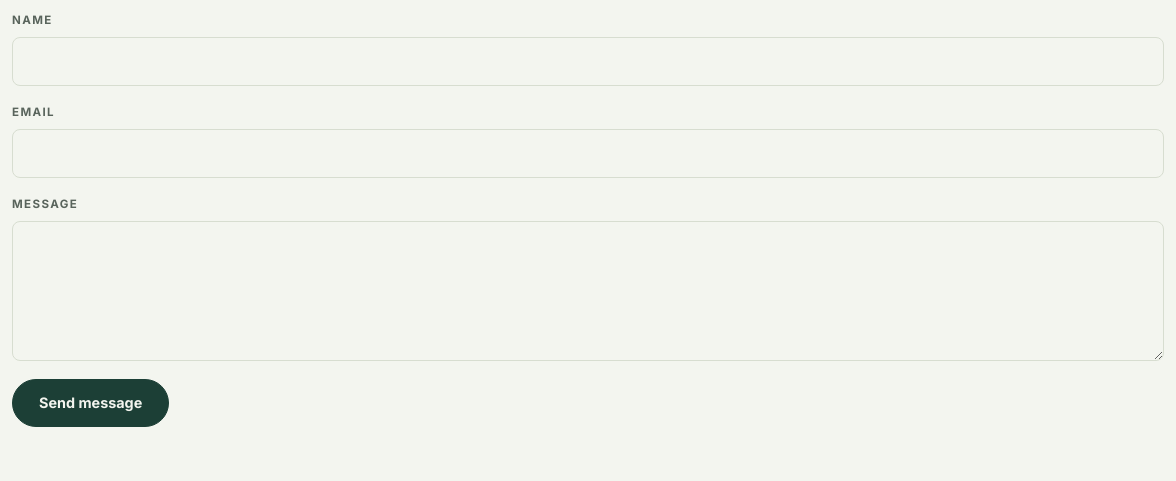
Test: ContactForm › shows a fallback message when no access key is configured
Type "Trail Friend" into the field labelled "Name" at x=588, y=62, box [12,37,1164,86]
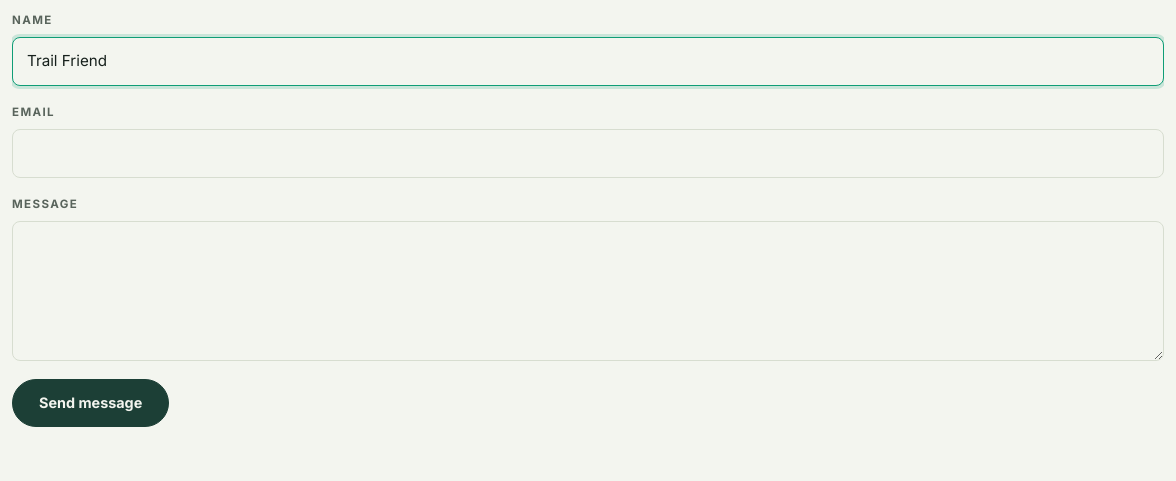
Type "friend@example.com" into the field labelled "Email" at x=588, y=154, box [12,129,1164,178]
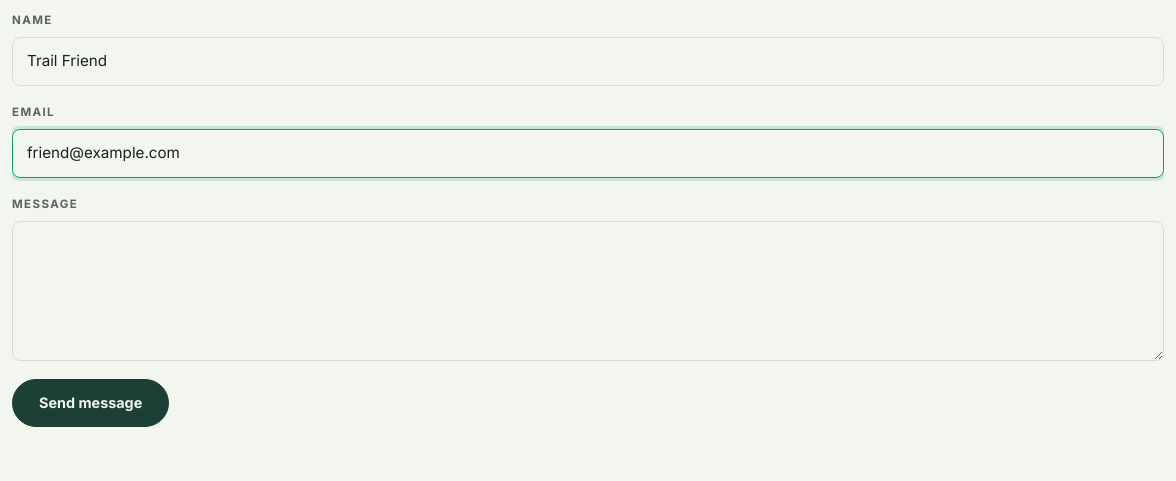
Type "Hello from the ridge!" into the text box labelled "Message" at x=588, y=291, box [12,221,1164,361]
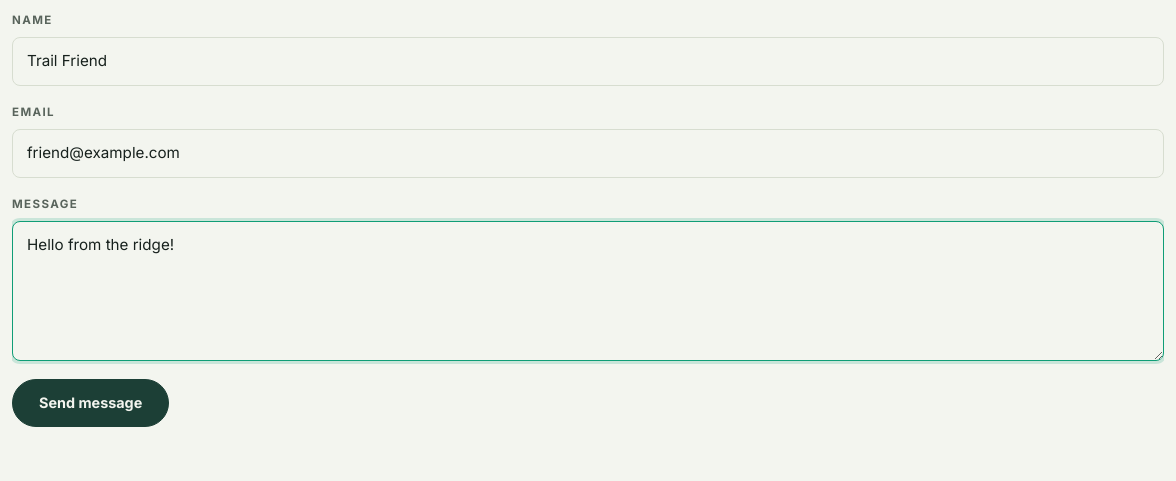
Click the button "Send message" at x=91, y=403, box [12,379,169,427]
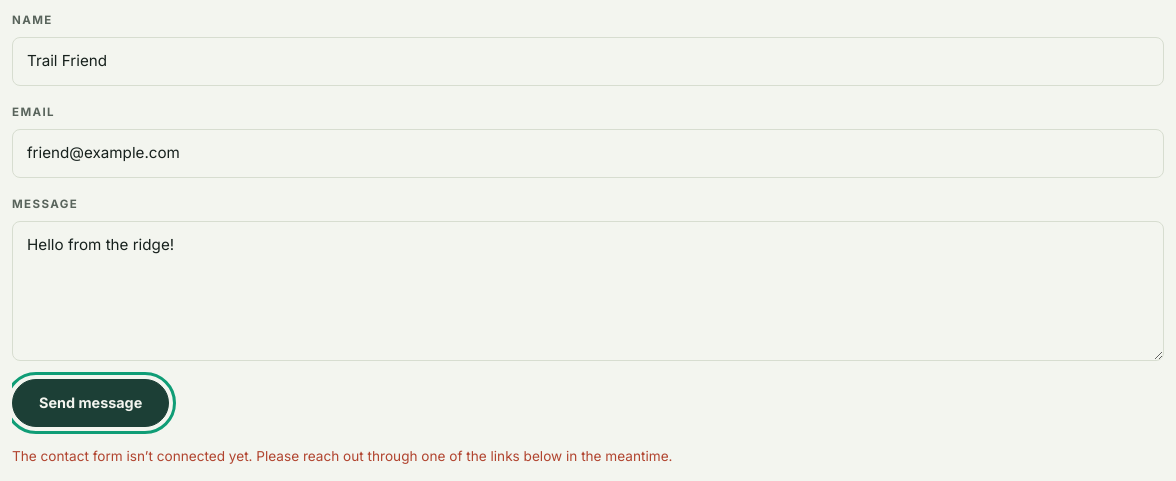
Expected: the message shows "connected yet", [12,448,672,464]
